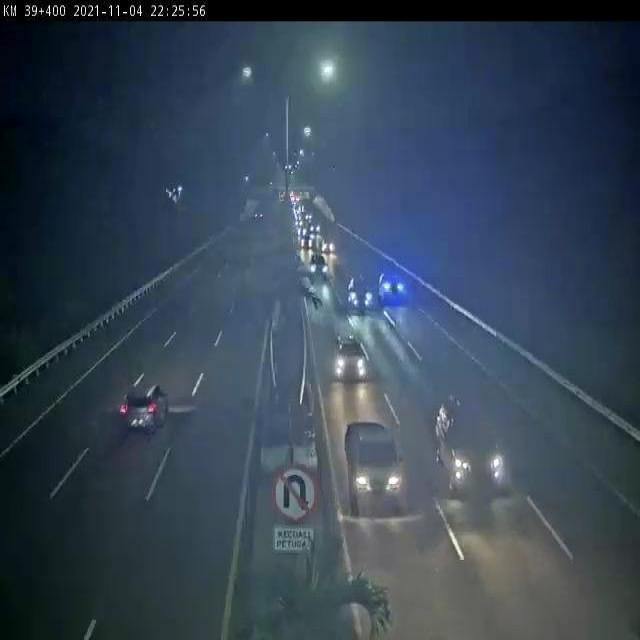car: (429, 386, 525, 506), (114, 369, 173, 448), (331, 325, 378, 383), (375, 262, 414, 302), (342, 272, 376, 317)
truck-s-: (342, 419, 416, 525)
